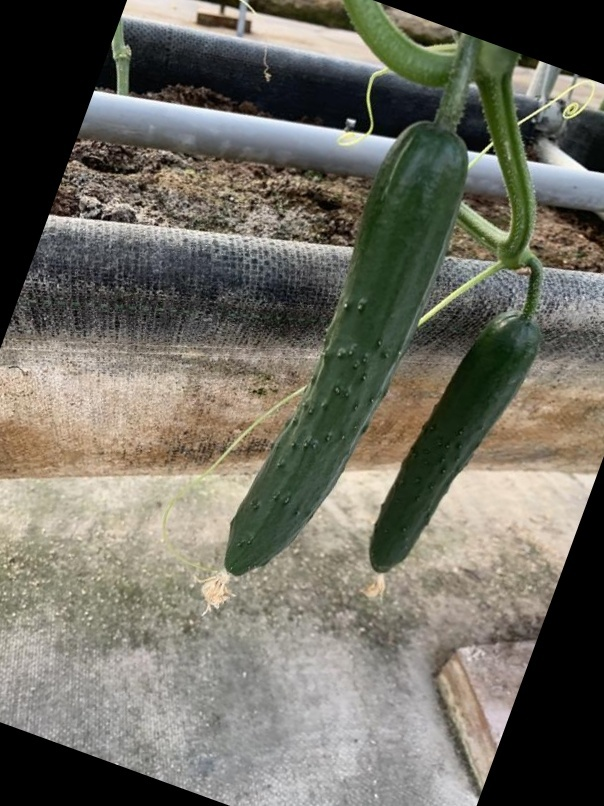mature: (226, 123, 472, 585), (369, 315, 544, 575)
